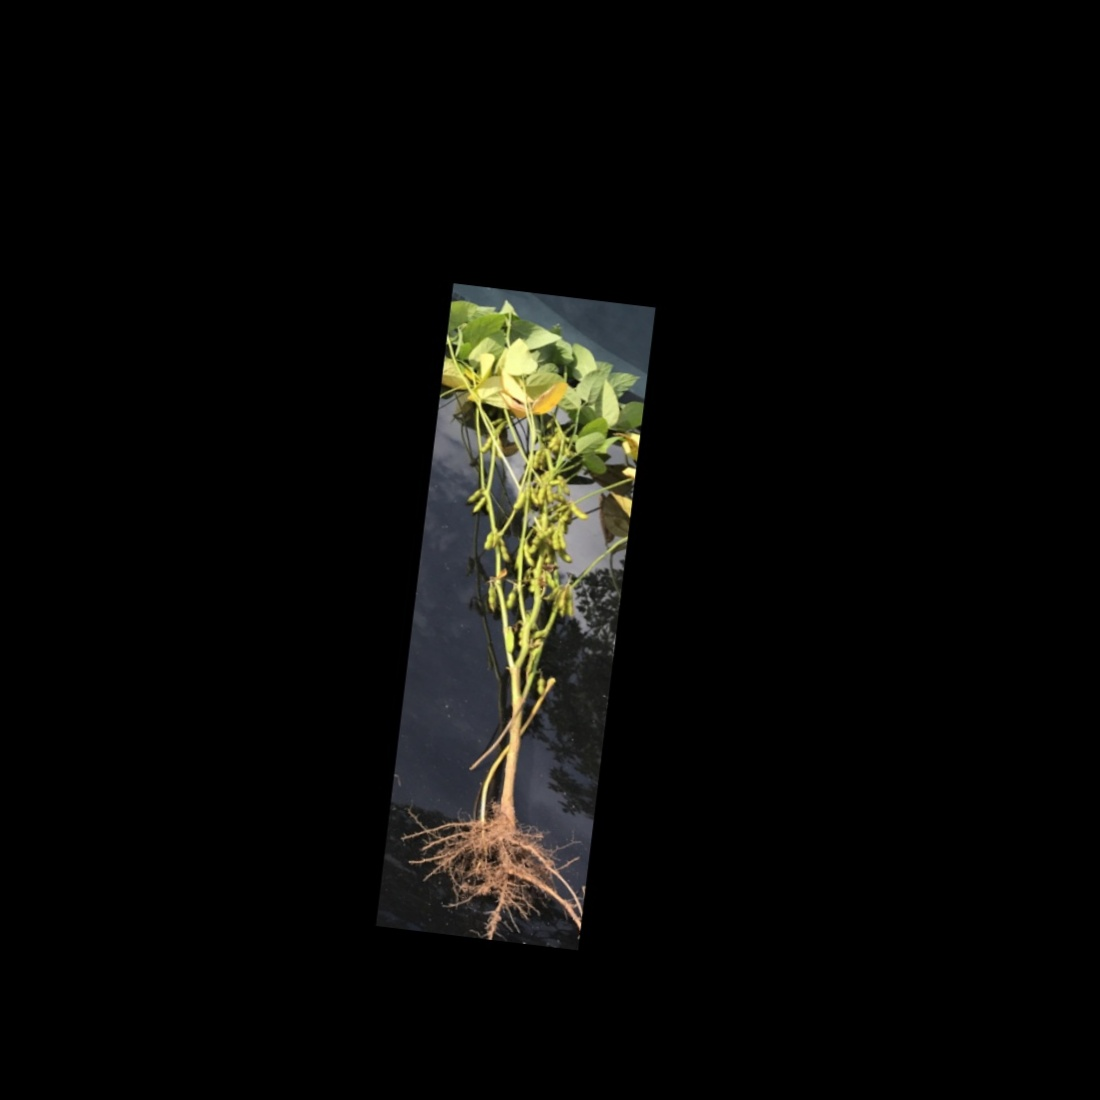pod: (566, 499, 593, 521), (494, 535, 515, 563), (521, 540, 539, 569), (484, 582, 500, 614), (546, 526, 564, 553), (469, 492, 488, 518), (478, 432, 495, 456), (529, 448, 544, 472), (534, 674, 546, 699)
soy: (382, 340, 640, 912)
